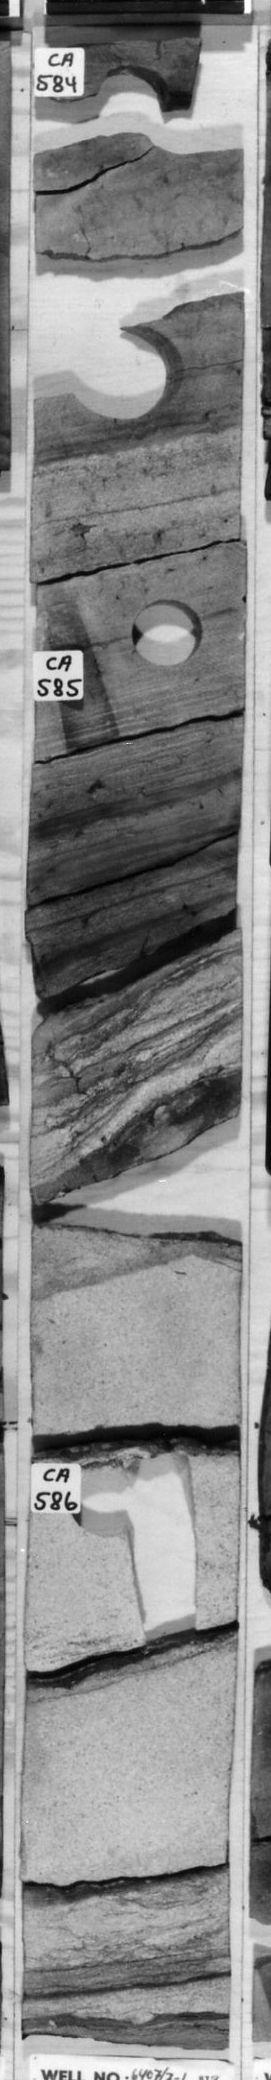hplug: (124, 594, 209, 673), (60, 1457, 132, 1545), (85, 61, 175, 115)
scal: (66, 329, 198, 432)
vplug: (121, 1449, 210, 1656), (40, 592, 122, 753)
